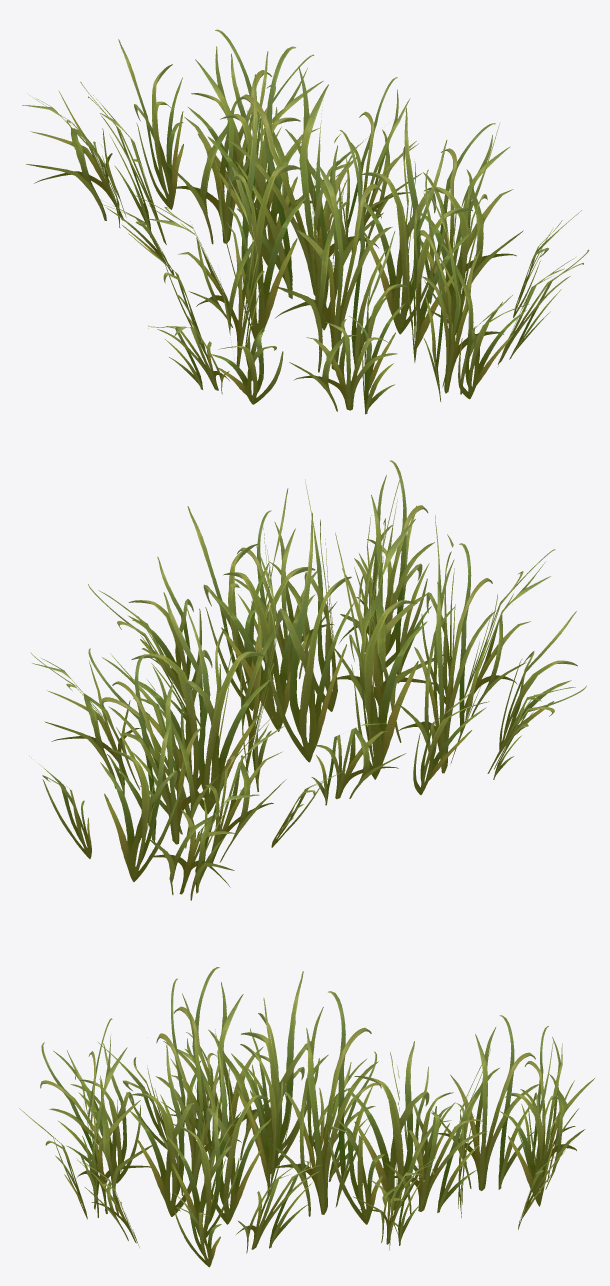
3 views of the same model, one above another, from view 1: azimuth 30°, elevation 25°; view 2: azimuth 150°, elevation 25°; view 3: azimuth 270°, elevation 25° (orthographic). The views are drawn at different scales.
Bounding box in the file's own units: 5.43 × 3.33 × 7.42.
Materials: 1 (1 with a texture image).
